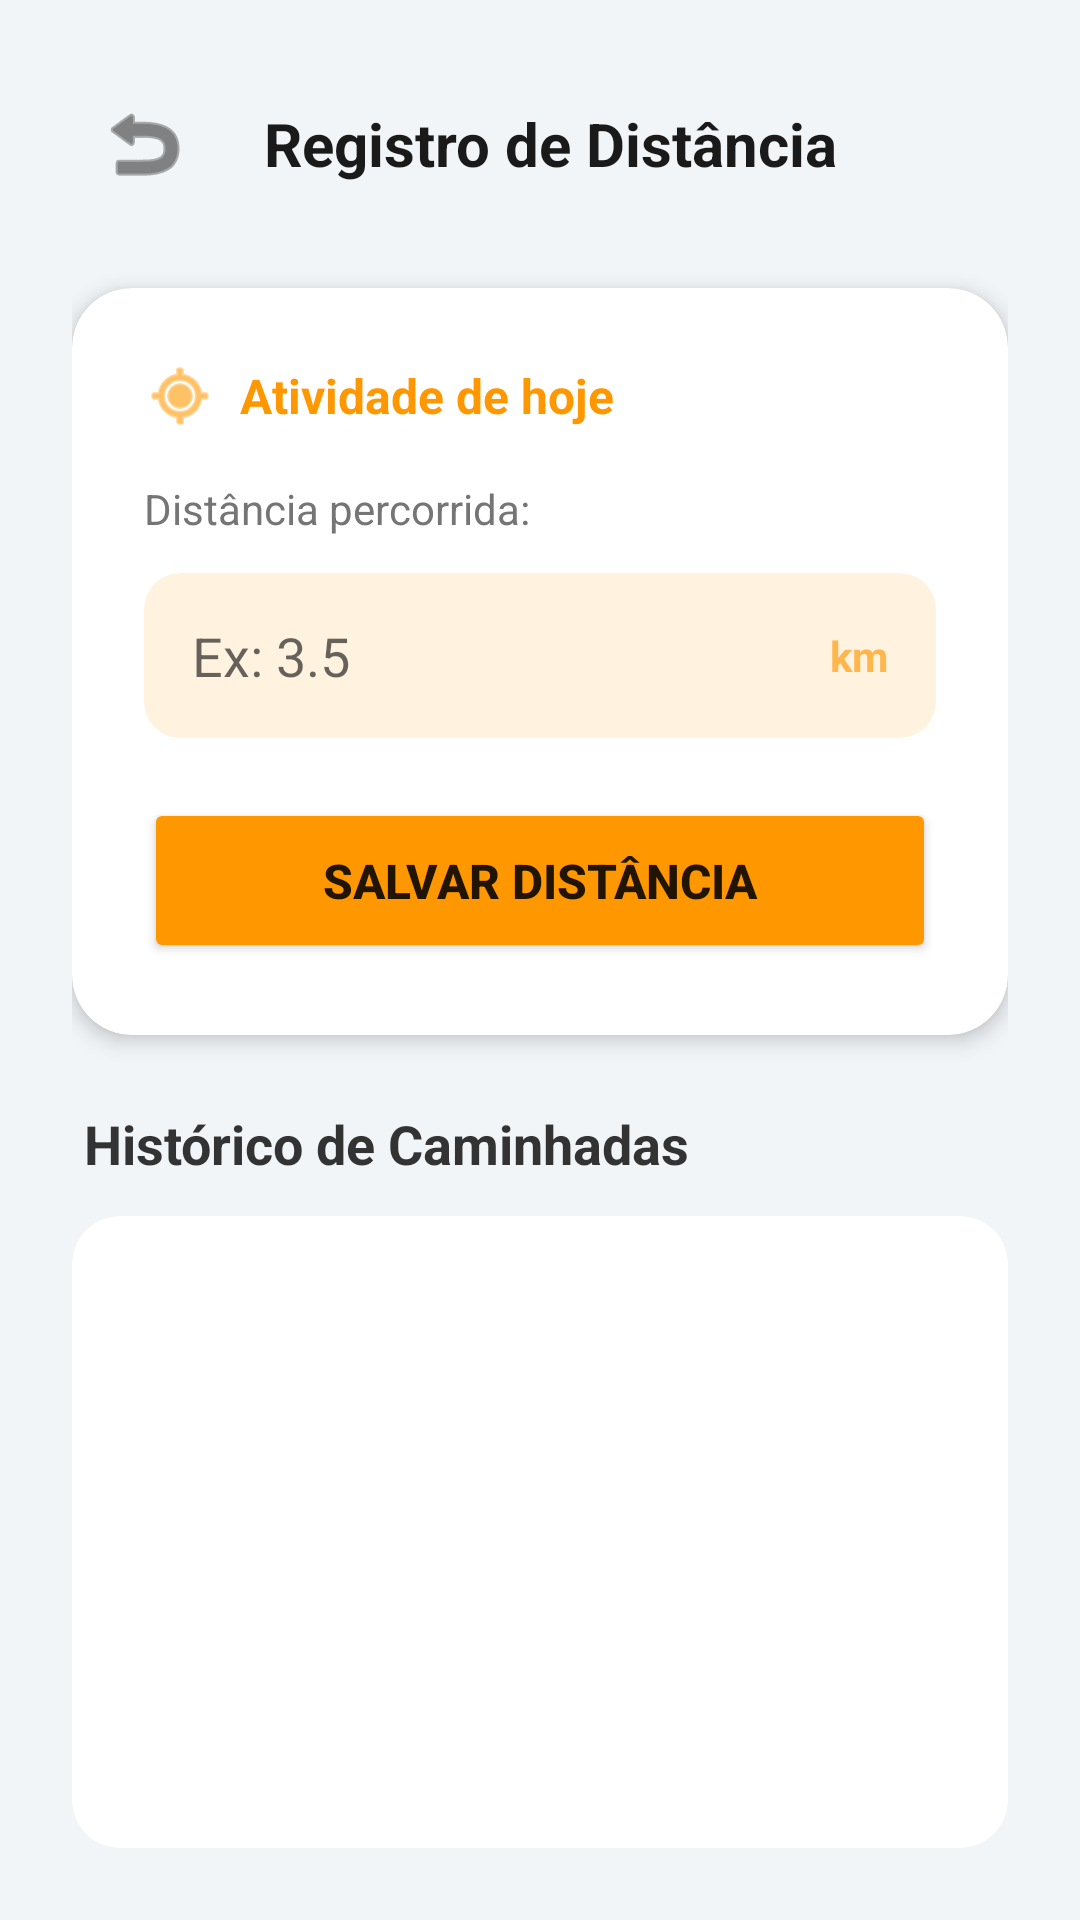

Icons on this 1080px x 1920px Android screen, each with its box as rect(x1, y1, x2, y2):
mylocation: rect(151, 367, 209, 425)
Voltar: rect(111, 113, 180, 176)
